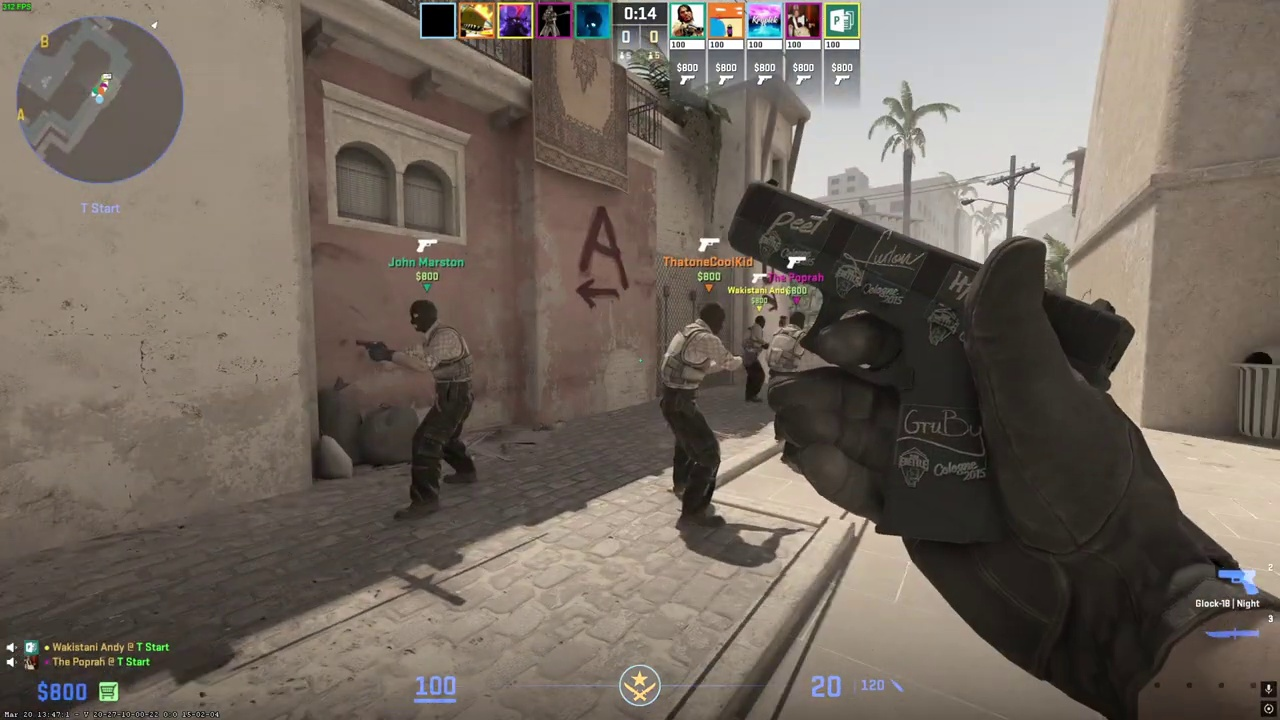Terrorist: (388, 299, 478, 520), (659, 302, 733, 531), (741, 315, 770, 403), (769, 312, 808, 373)
